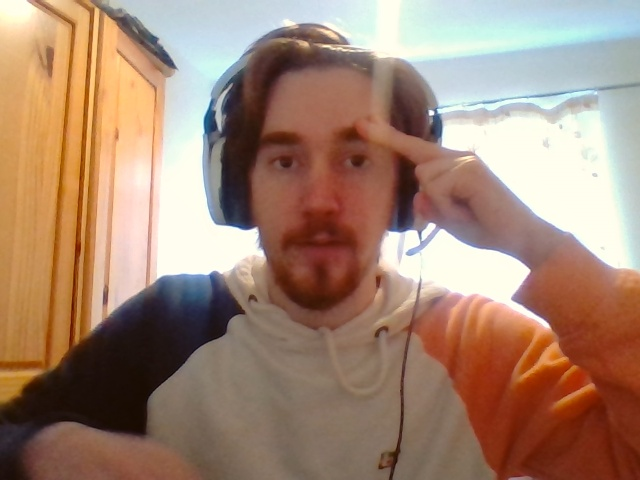name: (356, 114, 479, 231)
